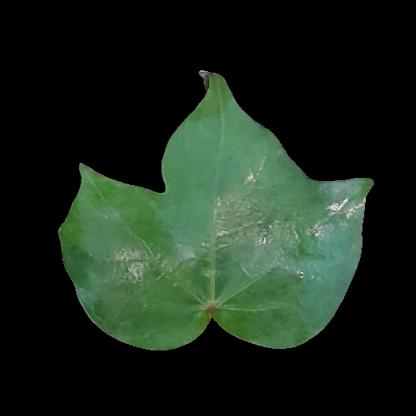healthy: (172, 148, 269, 315), (82, 211, 169, 296), (281, 216, 346, 303)
